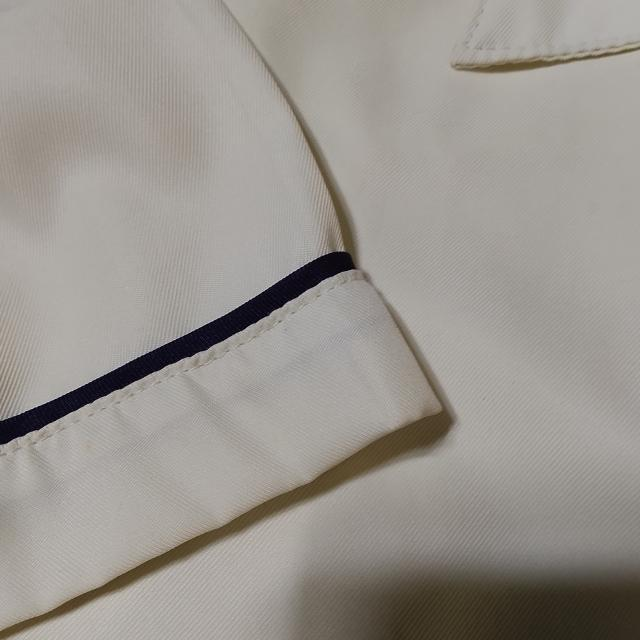education_male_uniform: (0, 1, 567, 594)
